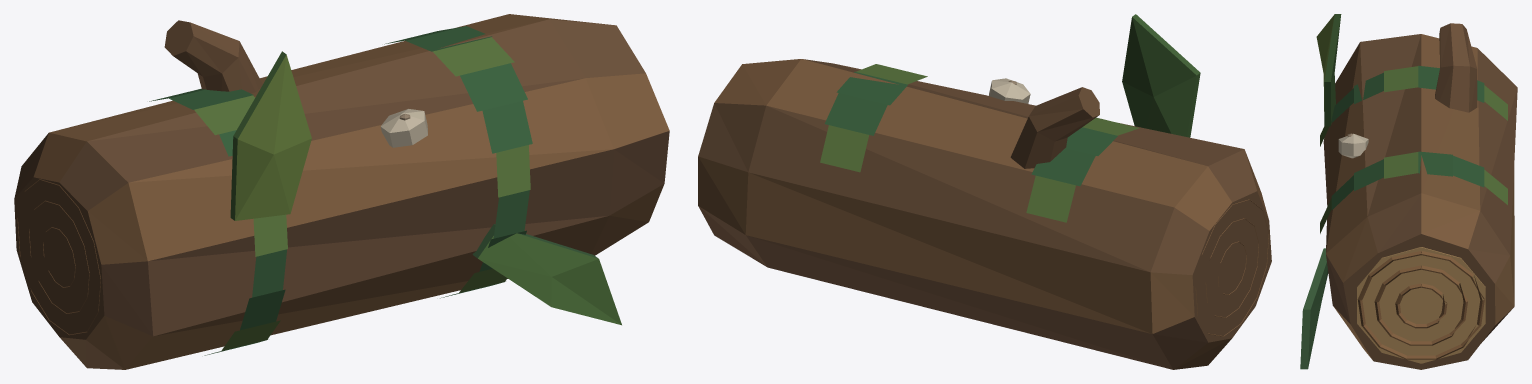
File: Waterlogged_Log.glb
3 views of the same model, side by side, from view 1: azimuth 30°, elevation 25°; view 2: azimuth 150°, elevation 25°; view 3: azimuth 270°, elevation 25° (orthographic). The views are drawn at different scales.
Visible parts, largest first — view 1: Waterlogged_Log; view 2: Waterlogged_Log; view 3: Waterlogged_Log.
Boxes of the visible parts, bbox=[...] form: Waterlogged_Log: bbox=[14, 14, 669, 369]; Waterlogged_Log: bbox=[698, 14, 1271, 369]; Waterlogged_Log: bbox=[1300, 14, 1517, 369].
Bounding box in the file's own units: 1.84 × 1.03 × 0.8351.
